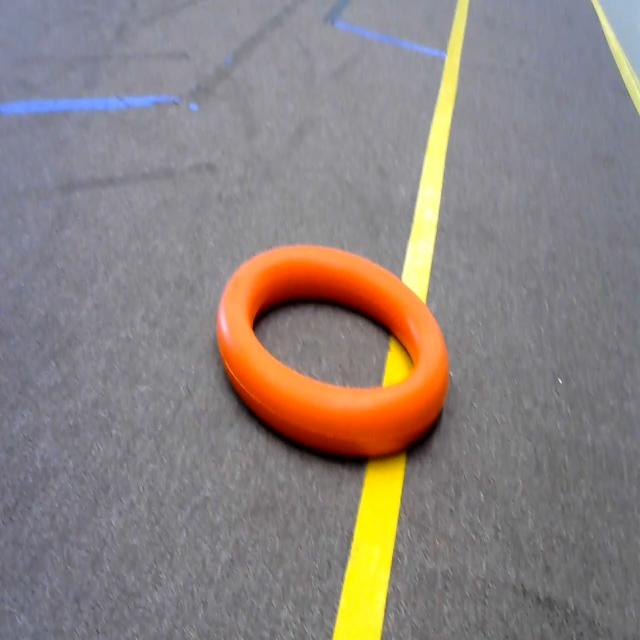note: (206, 215, 469, 471)
